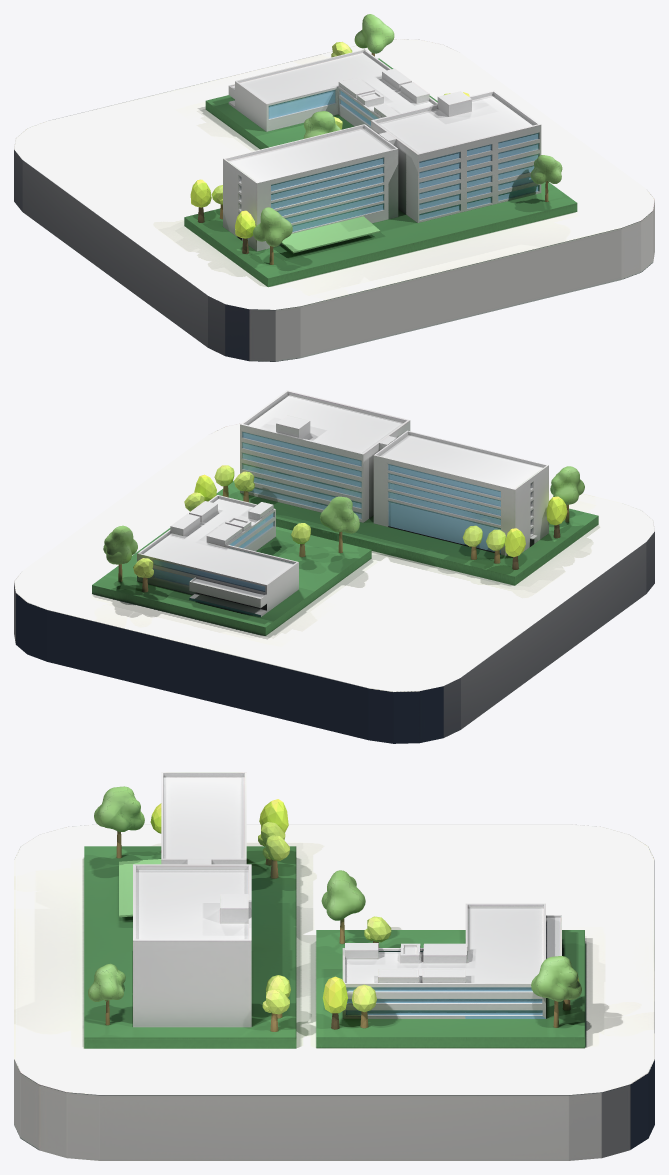
3 views of the same model, one above another, from view 1: azimuth 30°, elevation 25°; view 2: azimuth 150°, elevation 25°; view 3: azimuth 270°, elevation 25° (orthographic). The views are drawn at different scales.
Parts seen in each view (by area): view 1: Cube, 獸醫學院2, Plane.001, Cylinder.006; view 2: Cube, 獸醫學院2, Plane.001, Cylinder.006; view 3: Cube, 獸醫學院2, Plane.001, Cylinder.006.
Boxes of the visible parts, x1,y1,x2,y2 form: Cube: (14,39,654,361); 獸醫學院2: (223,49,541,253); Plane.001: (184,58,577,286); Cylinder.006: (190,14,562,264); Cube: (14,423,654,743); 獸醫學院2: (137,390,548,617); Plane.001: (92,481,598,635); Cylinder.006: (103,465,584,592); Cube: (14,824,654,1160); 獸醫學院2: (119,772,561,1027); Plane.001: (84,846,584,1048); Cylinder.006: (88,786,581,1031).
Size of the model in its own units: 15 by 4.5 by 15.
Materials: 11 (11 with a texture image).
